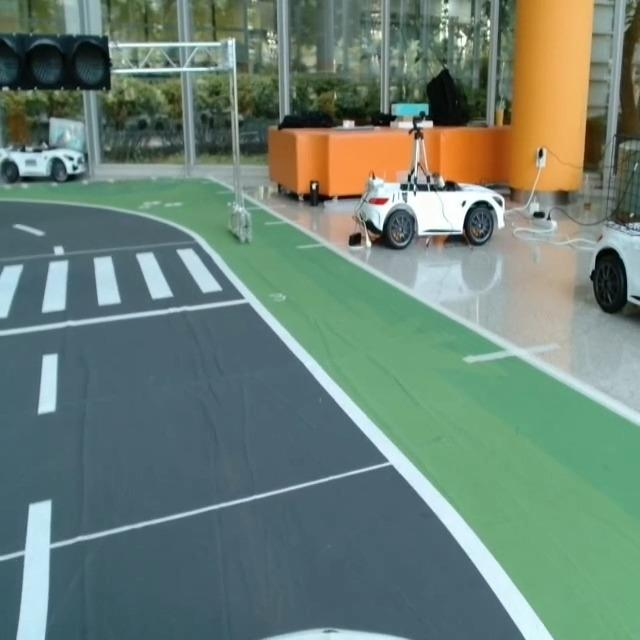traffic-light: (0, 29, 116, 96)
